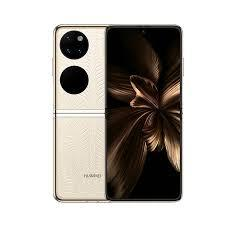Smartphone: (112, 19, 180, 202), (49, 23, 111, 200)
